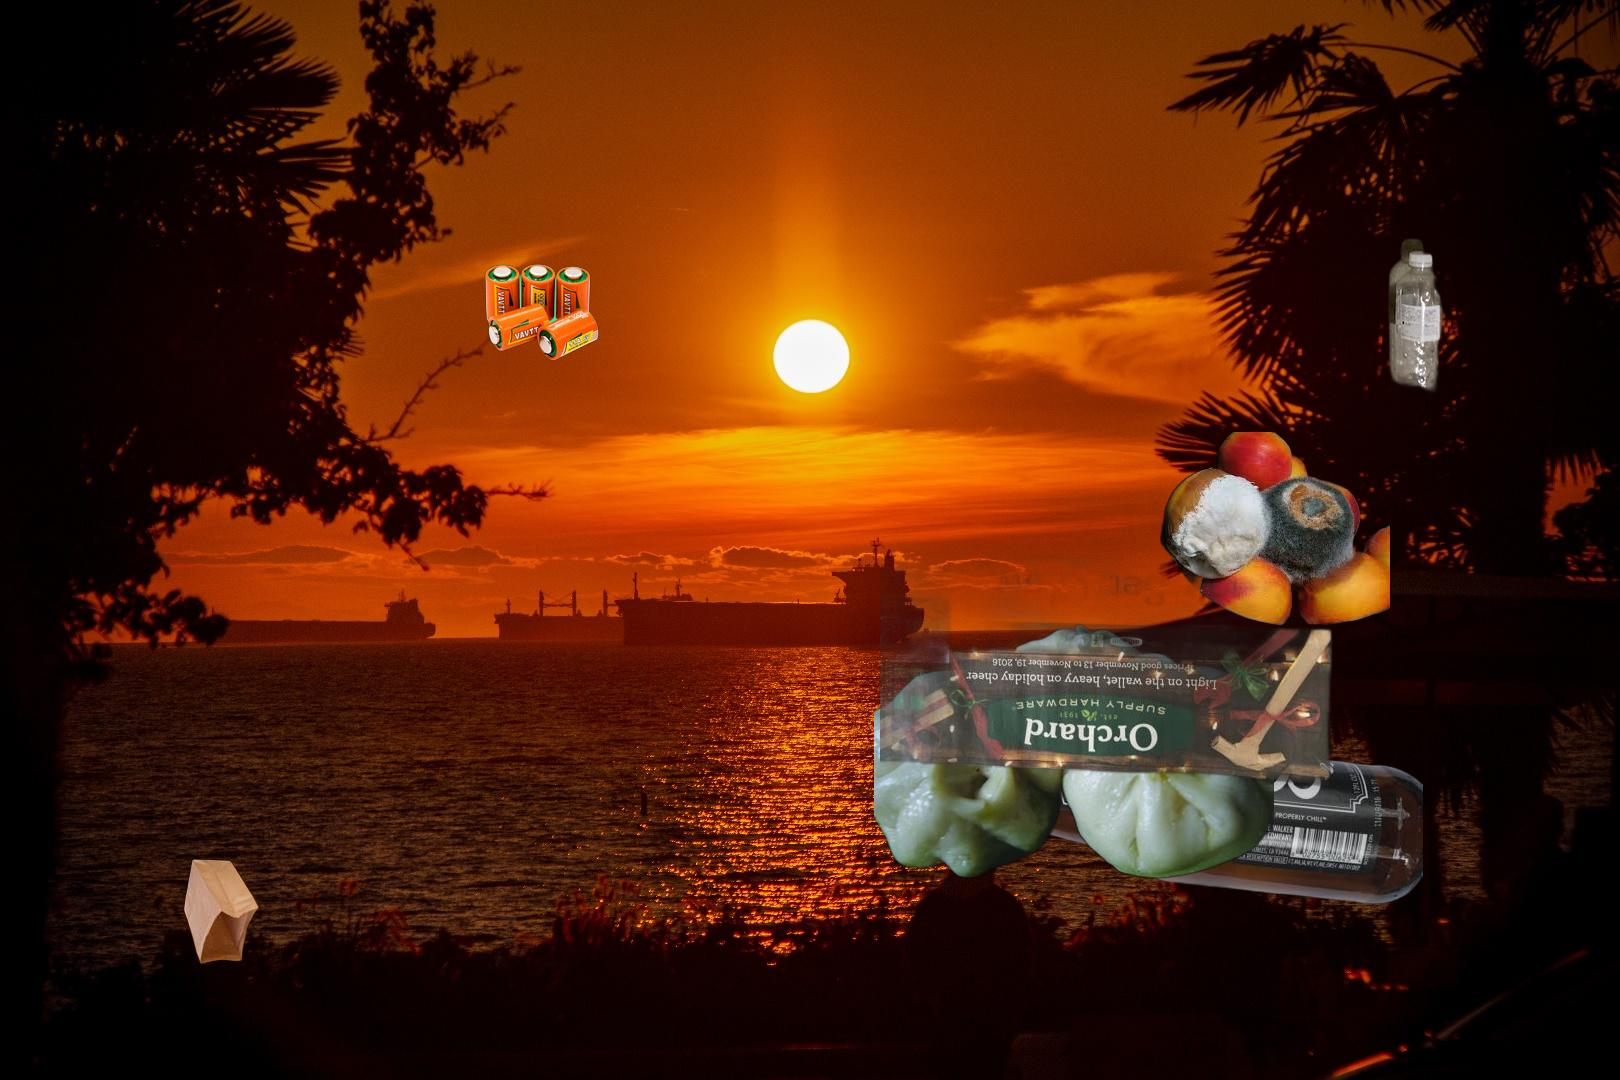battery: (482, 262, 602, 363)
biological: (874, 622, 1274, 881), (1158, 432, 1390, 626)
glass: (973, 741, 1423, 906)
paper: (880, 420, 1374, 804)
paper-bag: (181, 858, 262, 966)
plastic-bottles: (1384, 232, 1447, 399)
